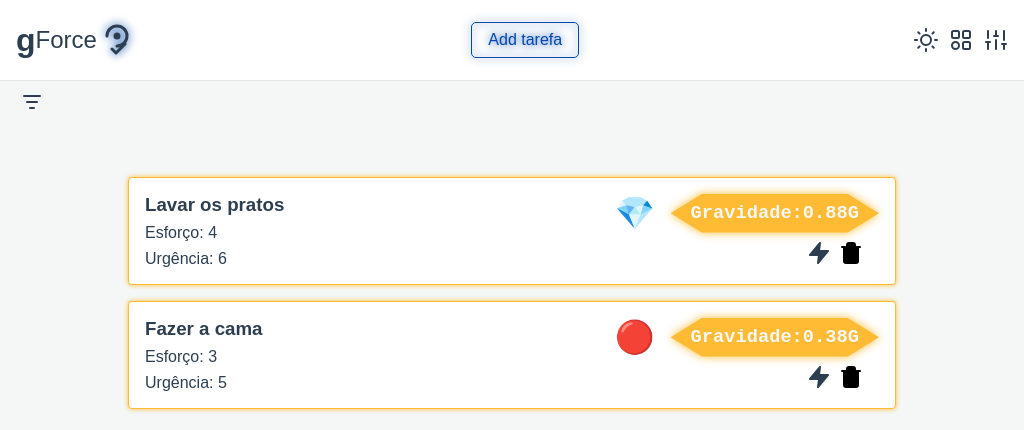
Scenario: Integração da aplicação g-force-todo WebApp - Componente principal - App.jsx - Fluxo do usuário › Deve iniciar com uma lista de 2 itens e excluir 1 deles após interação do usuário
Expected: the heading "Fazer a cama" is shown, [145,318,262,340]
Expected: the heading "Lavar os pratos" is shown, [145,194,284,216]
Click the button titled "Excluir tarefa" below "0.38".
click(851, 378)  # box [839,364,863,392]
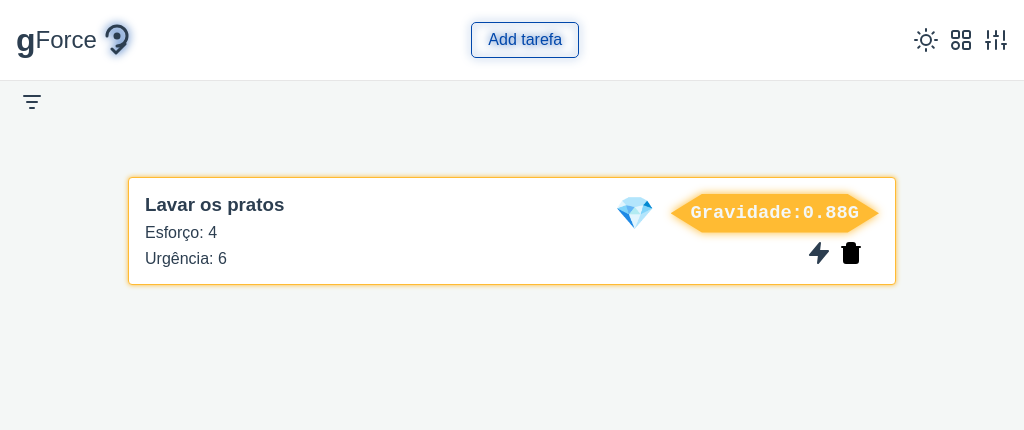
Expected: the heading "Lavar os pratos" is shown, [145,194,284,216]
Now the heading "Fazer a cama" is gone
Now the number of list items is 1, box [128,177,896,285]
